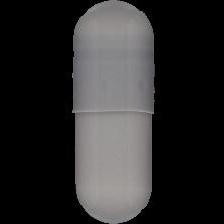63629-4525: (0, 0, 224, 224)
